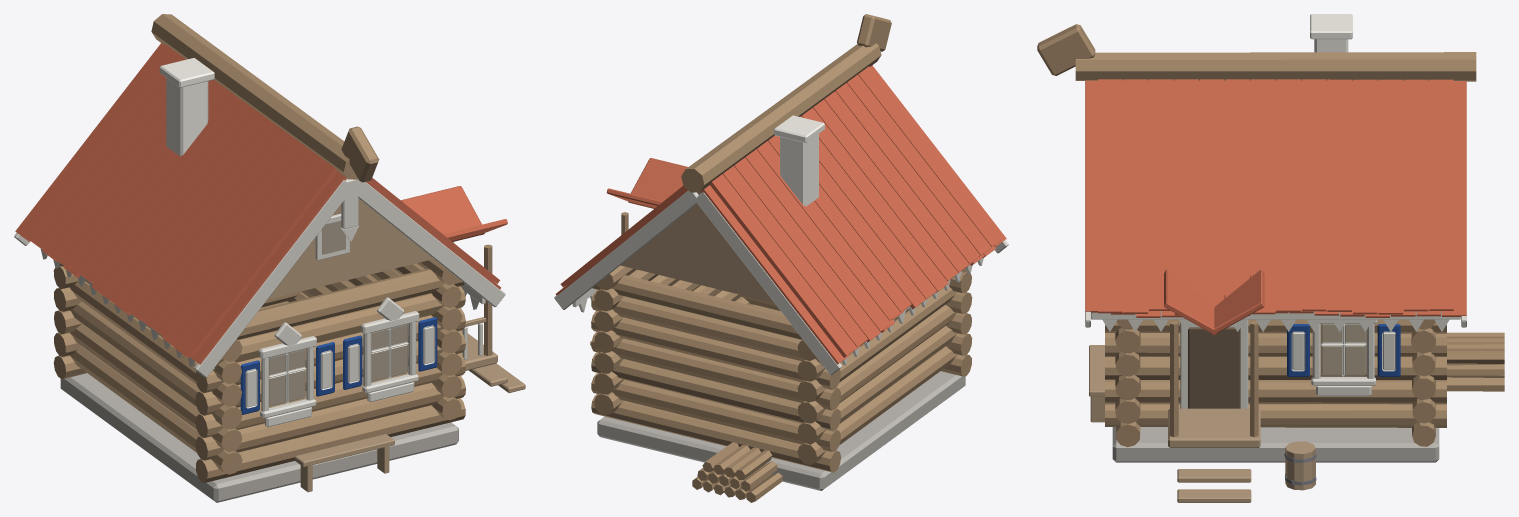
File: bld_izba_e1.glb
The picture shows the model from 3 angles, left to right: view 1: azimuth 30°, elevation 25°; view 2: azimuth 150°, elevation 25°; view 3: azimuth 270°, elevation 25°; orthographic projection. The views are drawn at different scales.
Visible parts, largest first — view 1: izba; view 2: izba; view 3: izba.
Part boxes in pixels (x1,y1,x2,y2): izba: (14, 14, 525, 502); izba: (554, 14, 1008, 502); izba: (1037, 14, 1504, 502).
Bounding box in the file's own units: 1.47 × 1.34 × 1.52.
